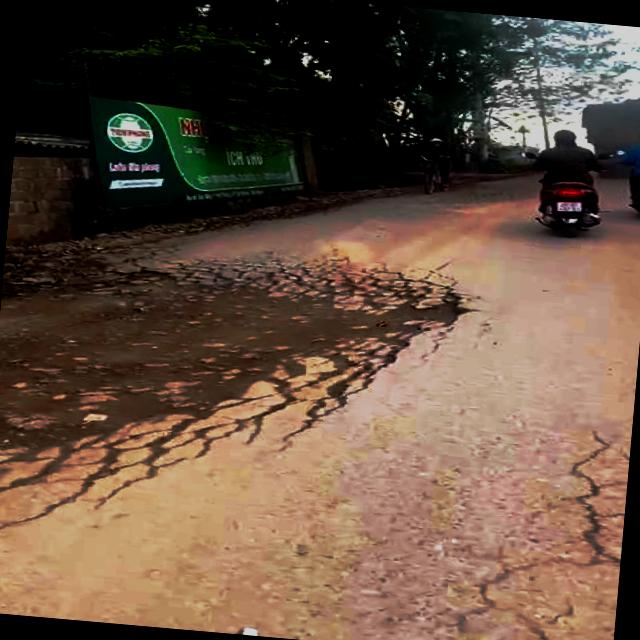pothole: (0, 247, 467, 468)
